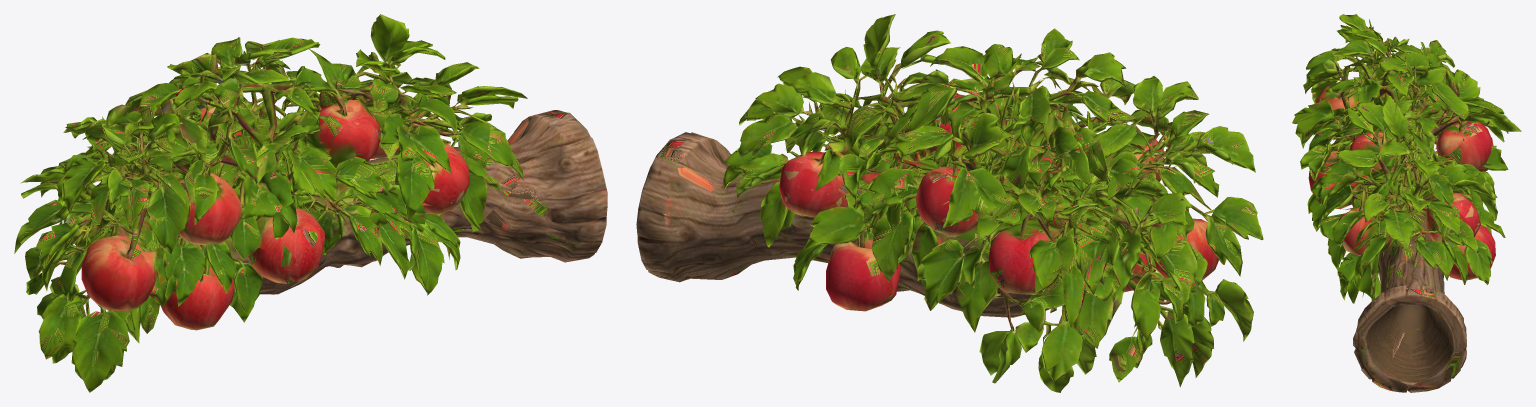
The model's file is branch_apple.glb.
The picture shows the model from 3 angles, left to right: view 1: azimuth 30°, elevation 25°; view 2: azimuth 150°, elevation 25°; view 3: azimuth 270°, elevation 25°; orthographic projection. The views are drawn at different scales.
Size of the model in its own units: 1.9 by 0.9827 by 0.8886.
1 material, 1 textured.
